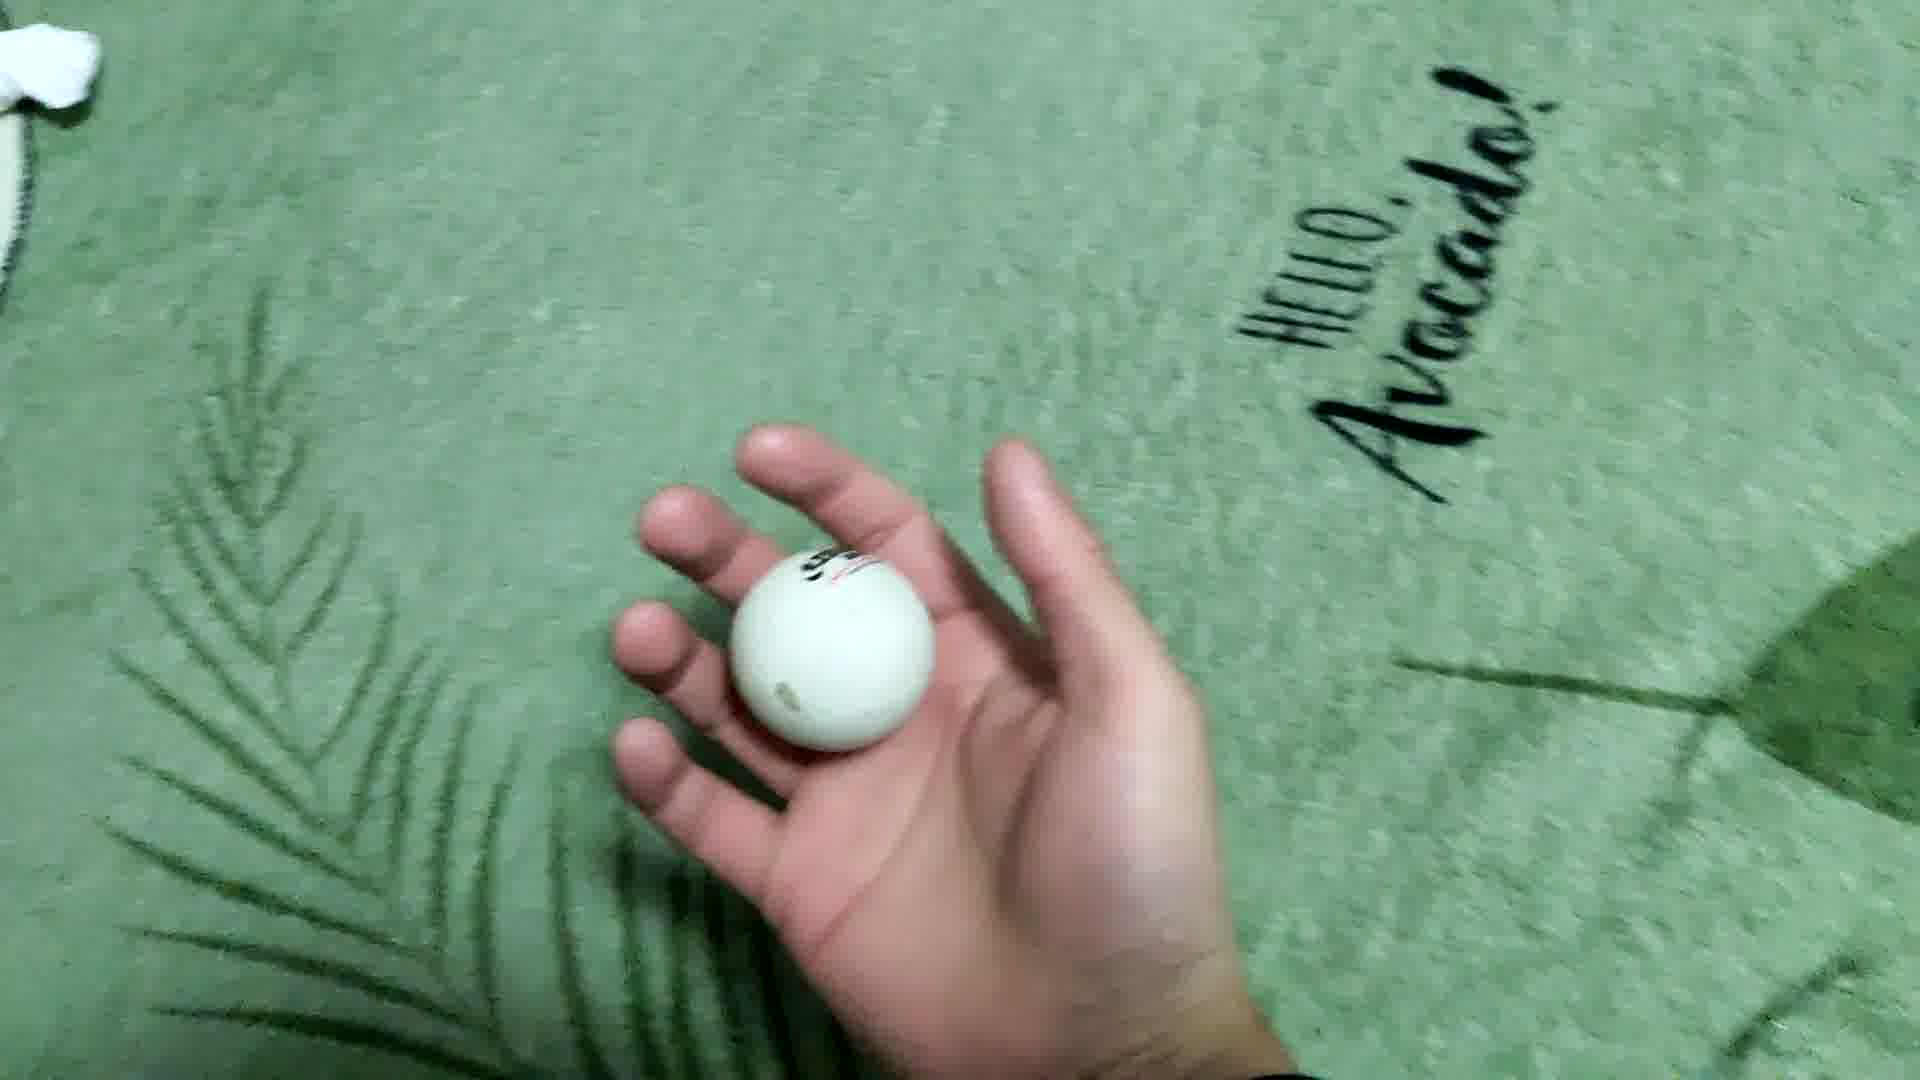Ball: (725, 553, 942, 742)
